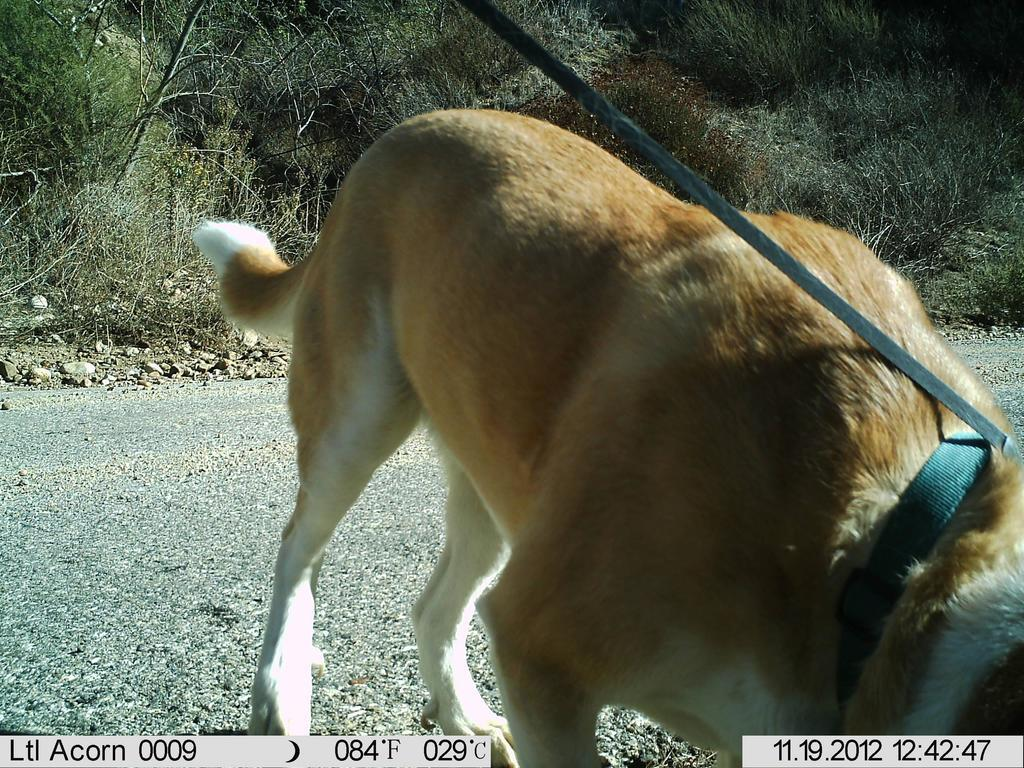dog: (190, 89, 1023, 744)
